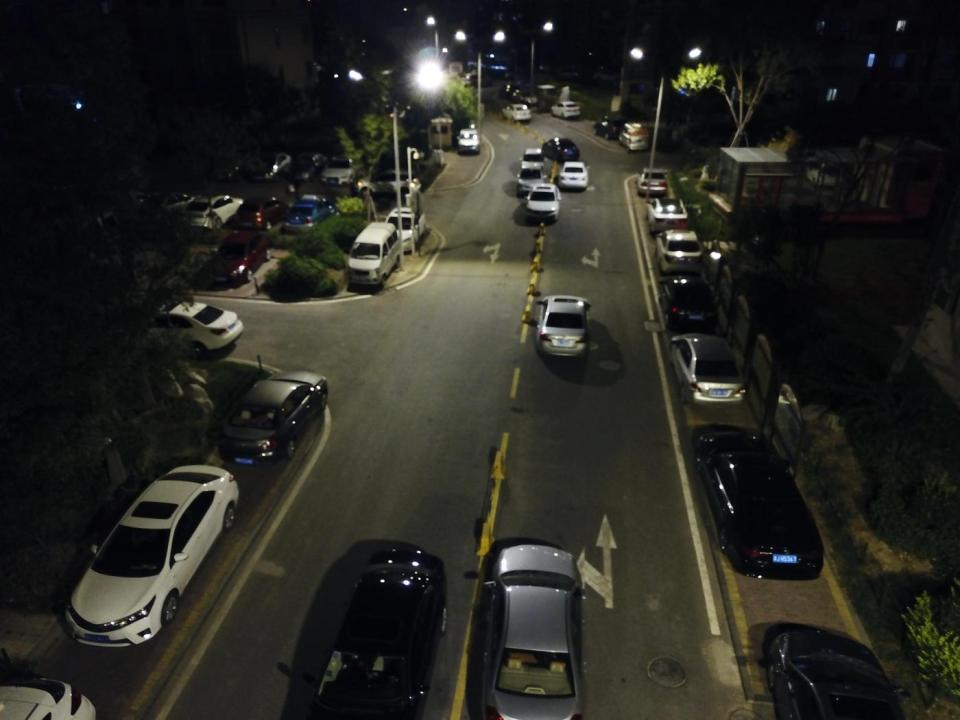car: (60, 461, 240, 649), (303, 539, 451, 720), (480, 535, 594, 720), (691, 424, 824, 582), (764, 627, 912, 720), (219, 368, 330, 466), (122, 302, 245, 354), (670, 329, 745, 407), (208, 228, 269, 289), (535, 293, 590, 359), (658, 271, 717, 332), (177, 189, 246, 230), (383, 202, 433, 257), (350, 164, 424, 201), (651, 227, 704, 274), (286, 191, 338, 233), (233, 192, 287, 232), (143, 186, 198, 223), (108, 184, 162, 221), (285, 144, 329, 189), (525, 180, 565, 223), (319, 152, 358, 192), (248, 145, 291, 181), (209, 142, 248, 180), (648, 195, 689, 231), (635, 162, 673, 199), (541, 134, 584, 164), (594, 108, 629, 142), (511, 144, 550, 173), (560, 160, 590, 191), (516, 162, 544, 192), (456, 126, 481, 156), (501, 101, 532, 123), (551, 100, 582, 119), (514, 87, 540, 107), (503, 86, 530, 102)
van: (346, 222, 402, 288)
